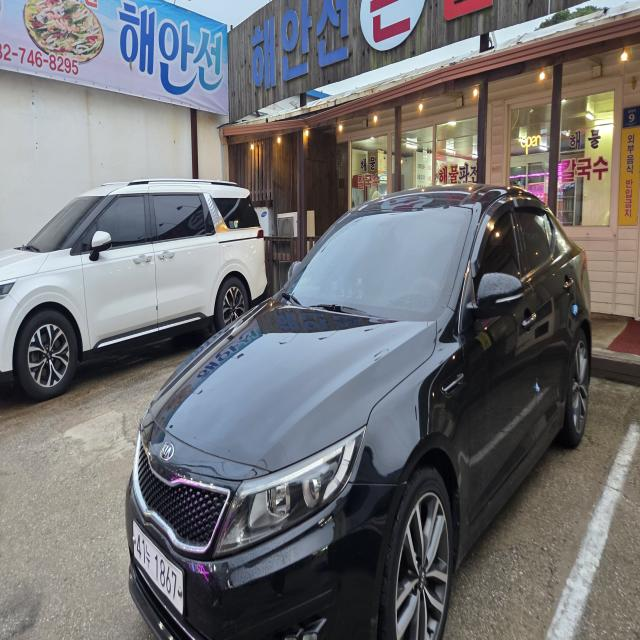car: (127, 153, 601, 640), (0, 160, 278, 391)
